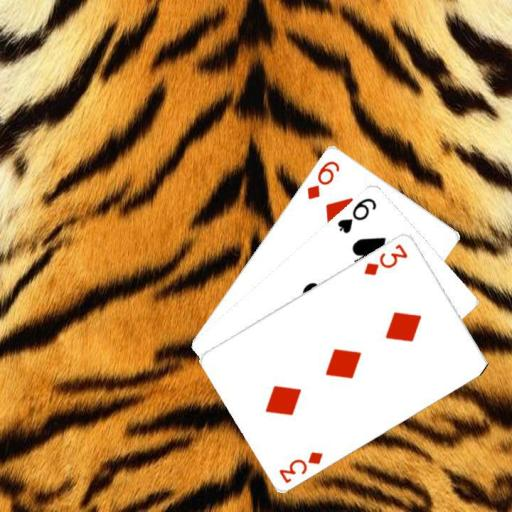3D: (275, 448, 325, 485), (361, 240, 410, 277)
6D: (304, 157, 341, 201)
6S: (335, 194, 379, 235)
